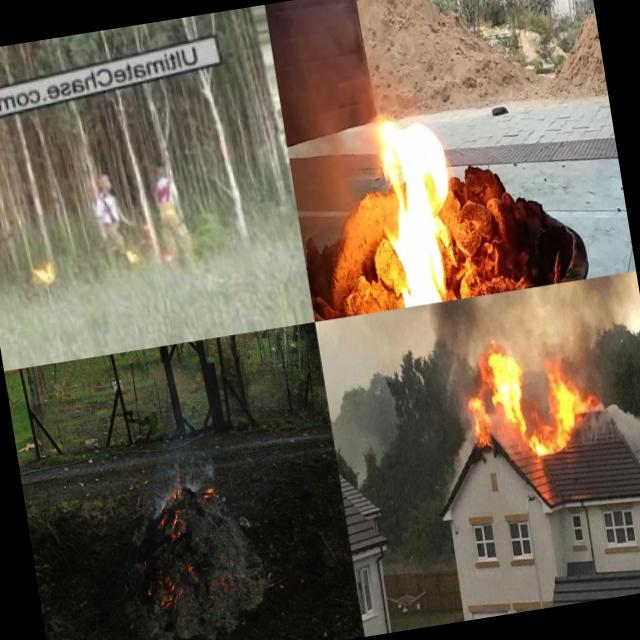fire: (362, 76, 470, 310), (466, 345, 596, 472), (158, 572, 185, 610), (32, 255, 59, 289), (166, 511, 186, 544), (168, 462, 184, 502), (124, 241, 146, 265), (201, 483, 215, 500)
smoke: (264, 0, 391, 278), (473, 271, 640, 360), (398, 297, 487, 406), (580, 334, 640, 467), (181, 450, 217, 490), (151, 480, 171, 513)
